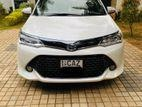car: (13, 1, 128, 93)
